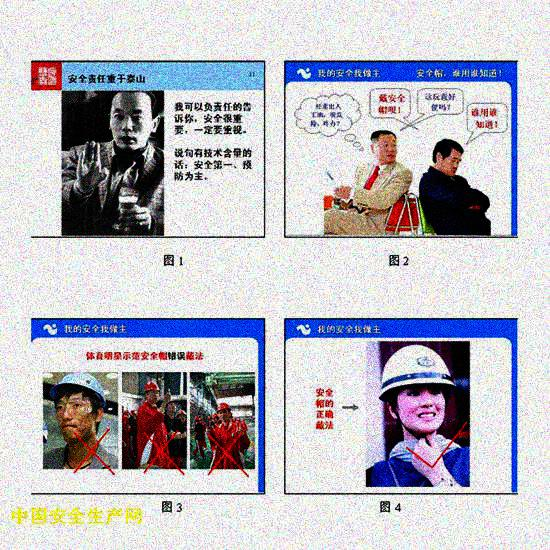helmet: (380, 343, 454, 432), (50, 372, 109, 443), (107, 89, 161, 147), (431, 137, 464, 177), (367, 126, 399, 165), (143, 380, 161, 403), (215, 403, 233, 422), (165, 399, 177, 415), (176, 410, 187, 423), (131, 409, 138, 417), (211, 412, 217, 421), (194, 415, 200, 423), (207, 415, 212, 422)
